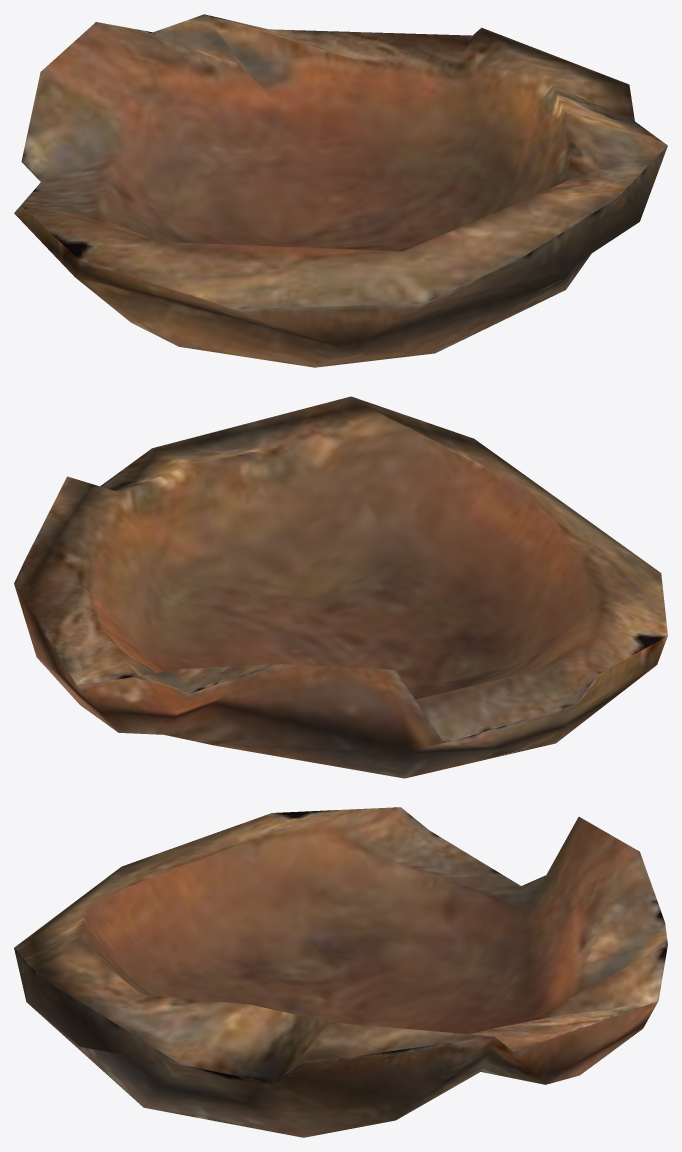
Rendered from wooden_bowl_01.glb.
The picture shows the model from 3 angles, top to bottom: view 1: azimuth 30°, elevation 25°; view 2: azimuth 150°, elevation 25°; view 3: azimuth 270°, elevation 25°; orthographic projection. The views are drawn at different scales.
Parts seen in each view (by area): view 1: wooden_bowl_01; view 2: wooden_bowl_01; view 3: wooden_bowl_01.
Part boxes in pixels (bbox=[...]): wooden_bowl_01: bbox=[14, 14, 667, 367]; wooden_bowl_01: bbox=[14, 396, 667, 778]; wooden_bowl_01: bbox=[14, 807, 667, 1137].
Size of the model in its own units: 0.3089 by 0.0878 by 0.3065.
1 material, 1 textured.
